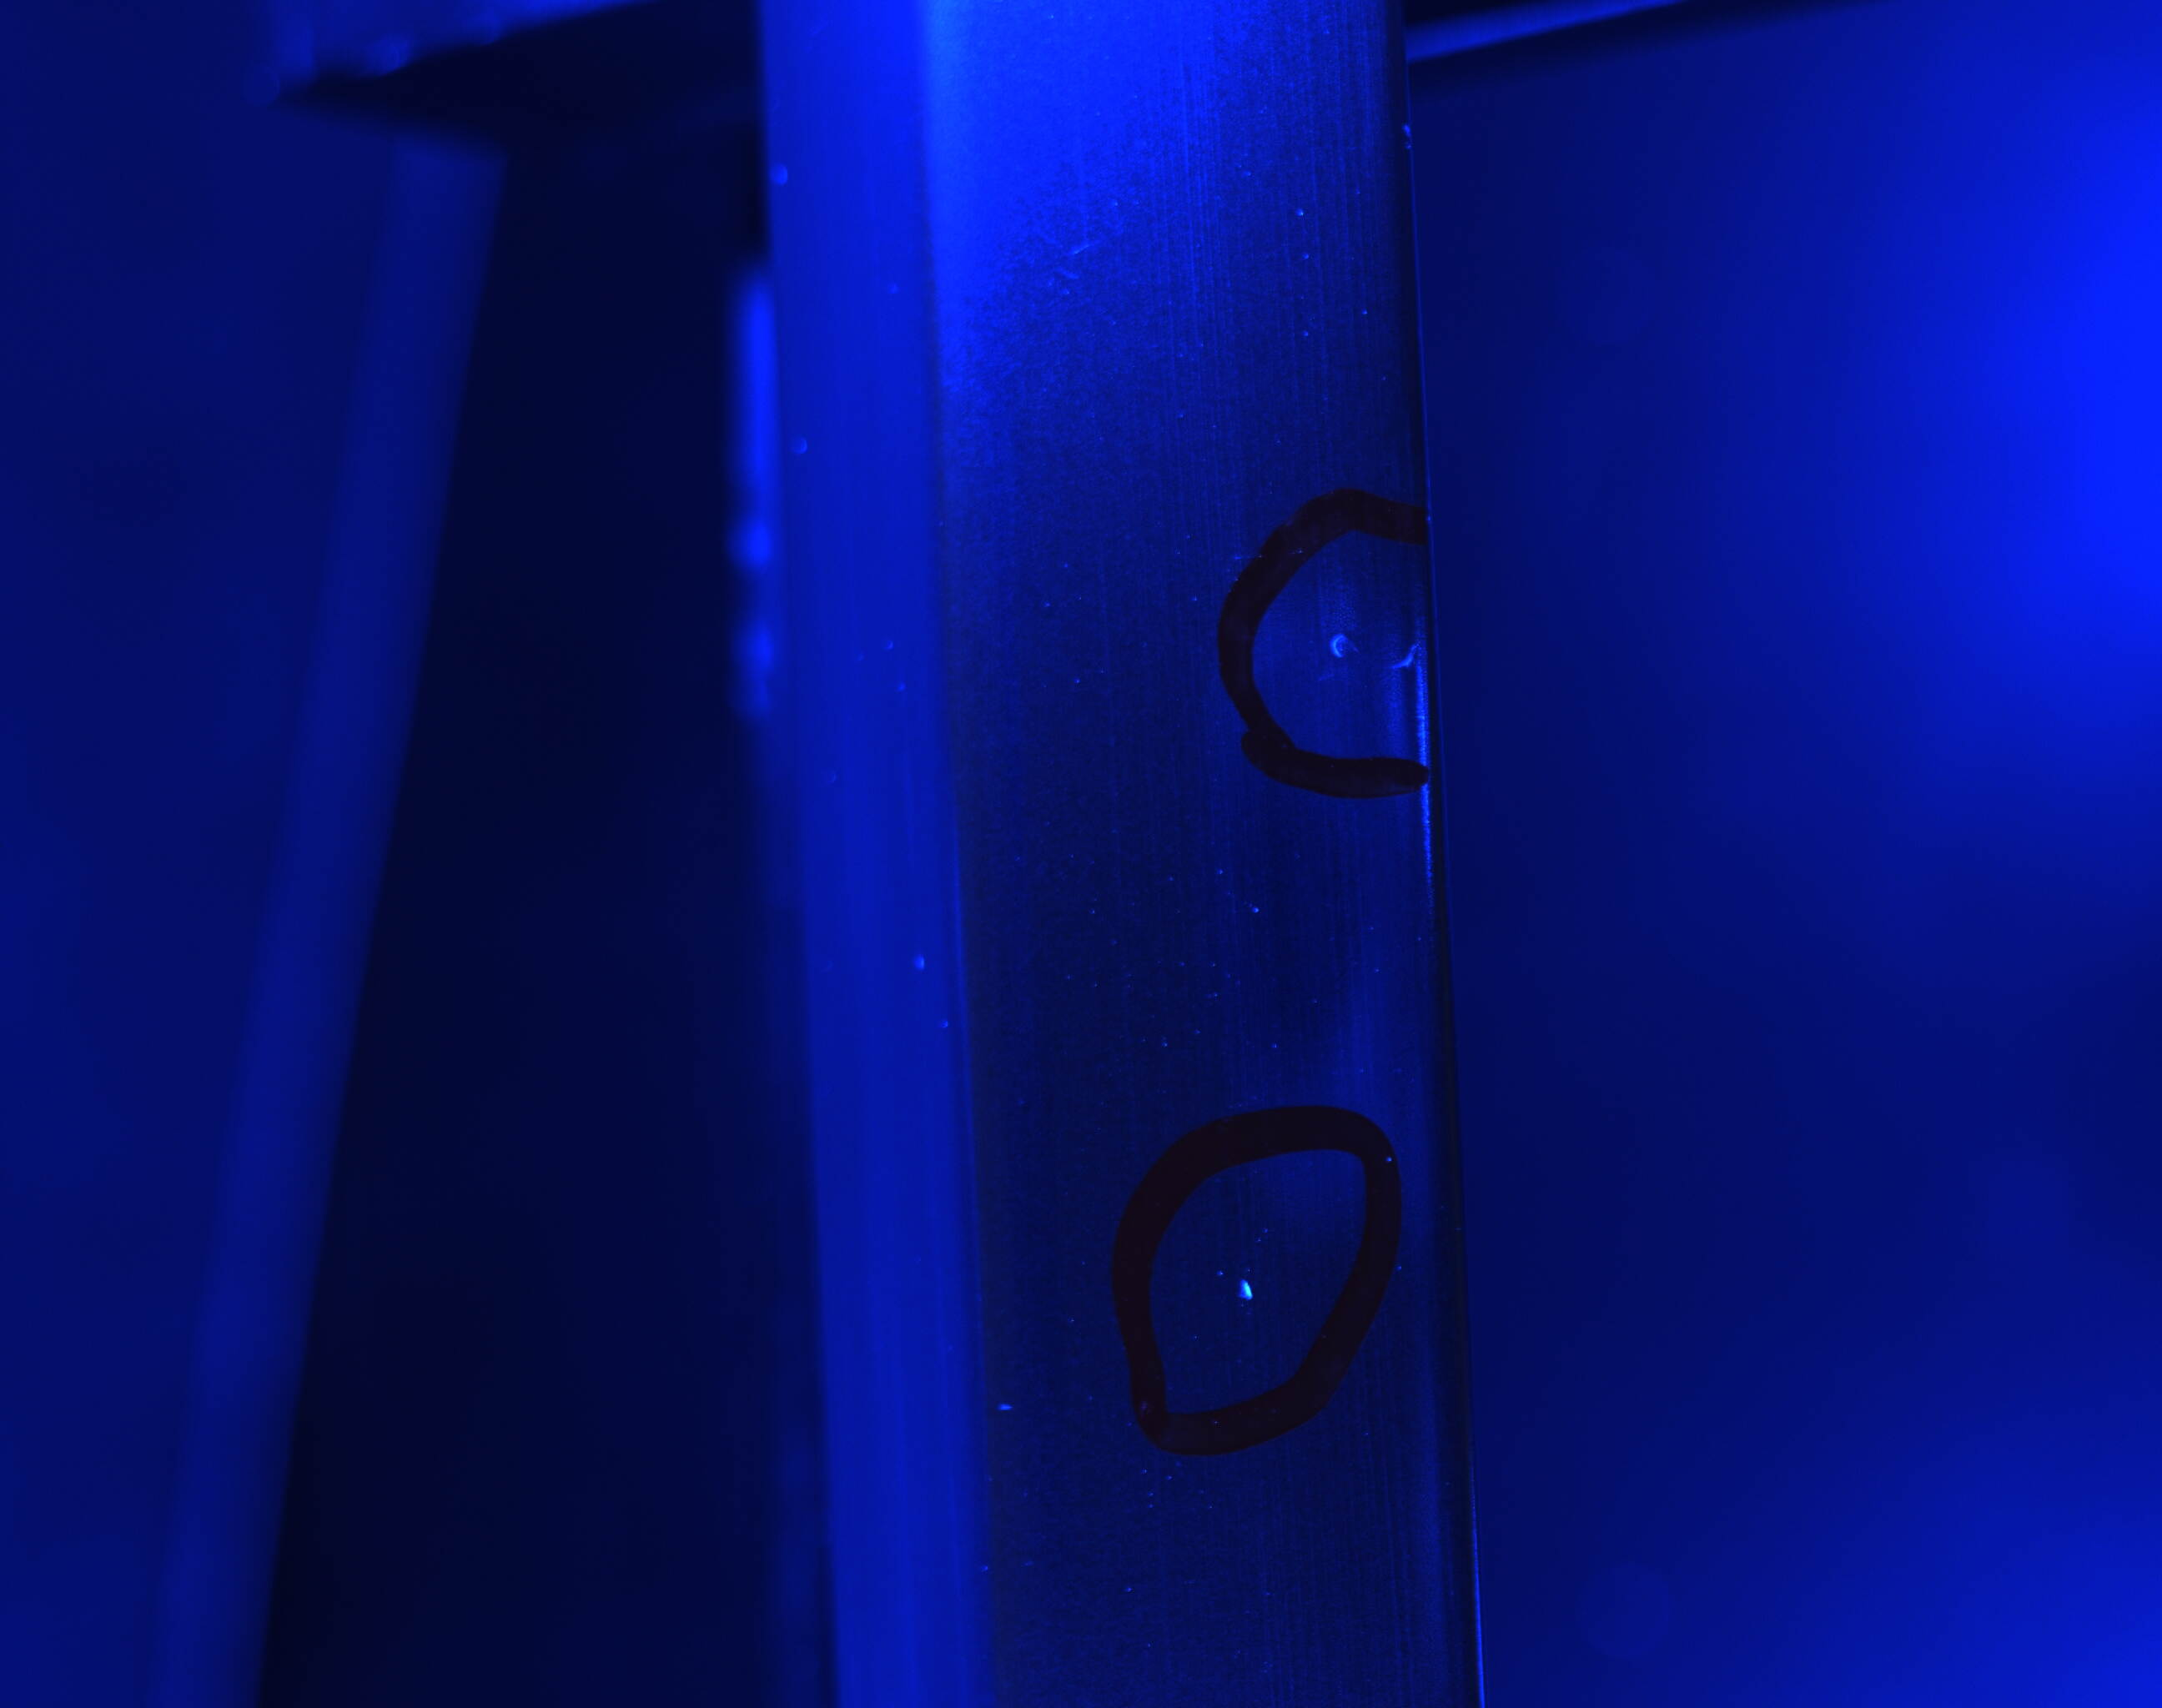NG: (1318, 602, 1418, 702), (1228, 1255, 1274, 1341)
